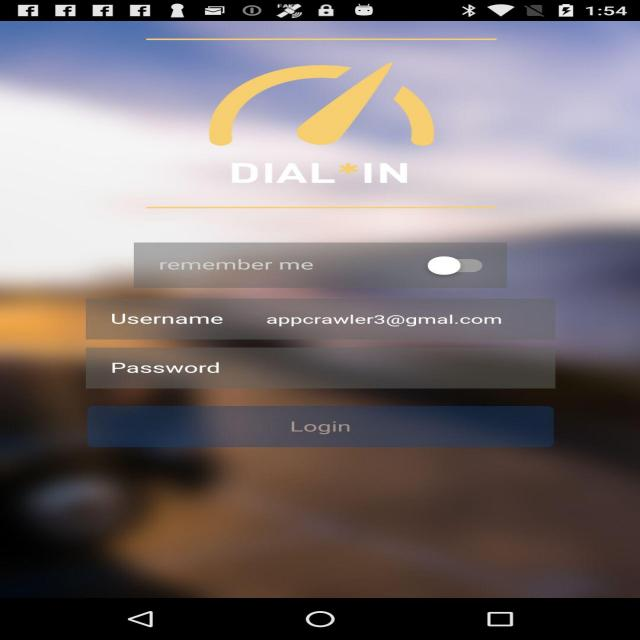button: (82, 406, 554, 450), (417, 250, 488, 277)
icon: (421, 252, 462, 276)
image: (141, 35, 504, 215)
text: (260, 314, 510, 329), (150, 257, 320, 275), (104, 358, 228, 378), (109, 311, 227, 328), (277, 416, 363, 439)
